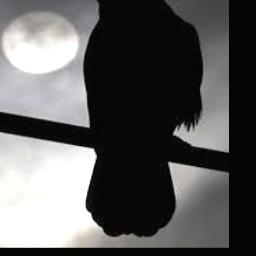Crow: (56, 0, 204, 238)
